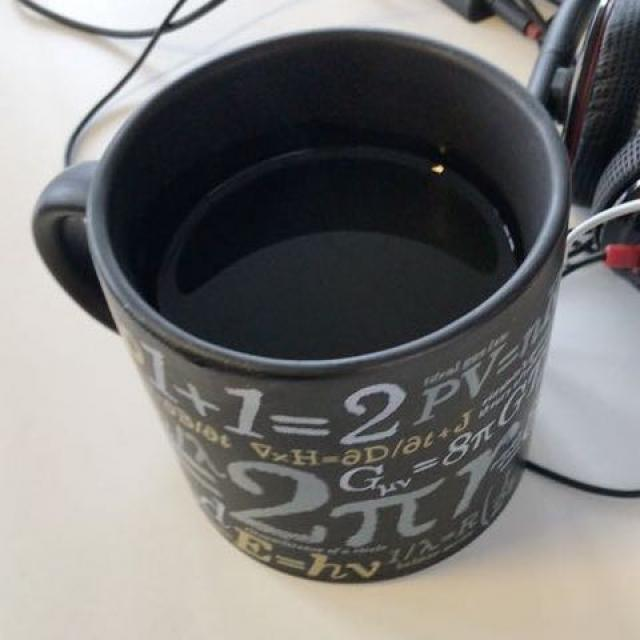tea: (138, 141, 513, 354)
